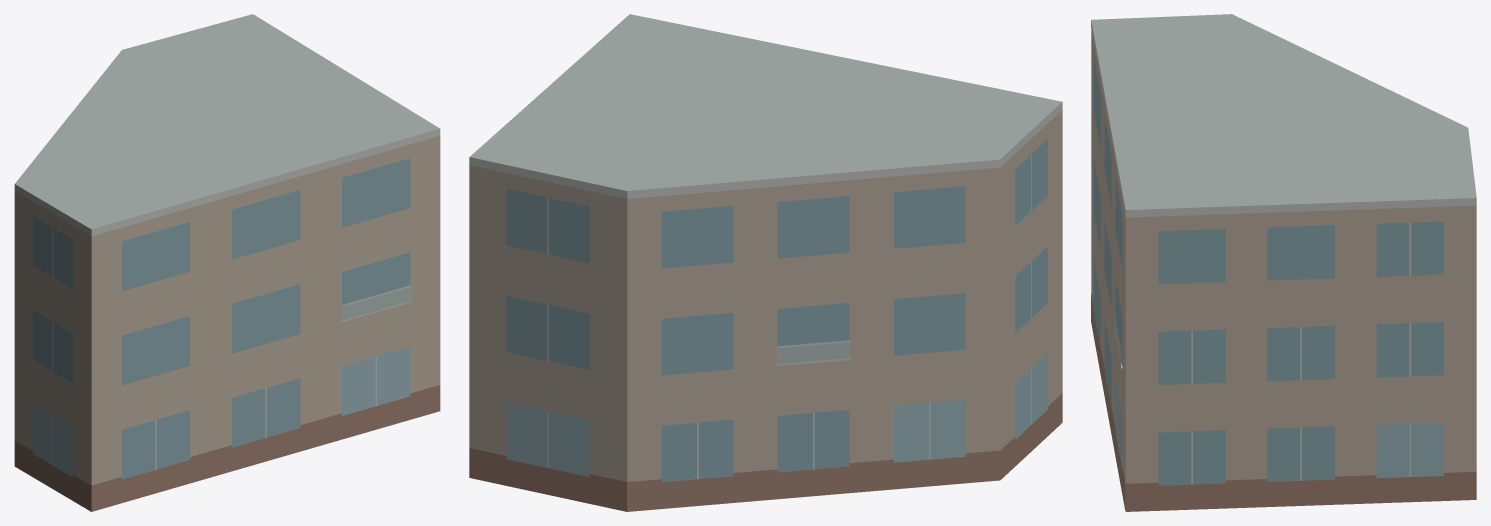
File: survey-upis-32633378.glb
The picture shows the model from 3 angles, left to right: view 1: azimuth 30°, elevation 25°; view 2: azimuth 150°, elevation 25°; view 3: azimuth 270°, elevation 25°; orthographic projection. The views are drawn at different scales.
Visible parts, largest first — view 1: survey-upis-32633378.tmp; view 2: survey-upis-32633378.tmp; view 3: survey-upis-32633378.tmp.
Boxes of the visible parts, left/top/right/bottom form: survey-upis-32633378.tmp: left=14, top=14, right=440, bottom=511; survey-upis-32633378.tmp: left=469, top=14, right=1062, bottom=511; survey-upis-32633378.tmp: left=1091, top=14, right=1476, bottom=511.
Size of the model in its own units: 13.59 by 9.75 by 11.3.
